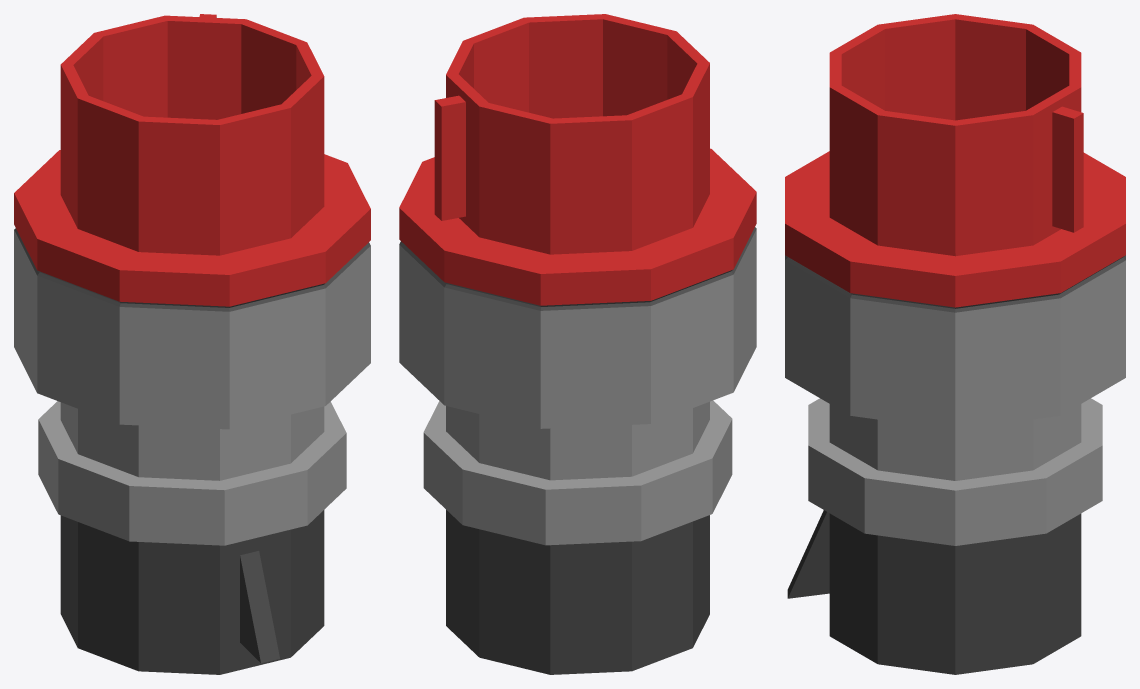
File: SM_plugRed.fbx
3 renders of one model, left to right at view 1: azimuth 30°, elevation 25°; view 2: azimuth 150°, elevation 25°; view 3: azimuth 270°, elevation 25°, orthographic.
Visible parts, largest first — view 1: SM_plugRed; view 2: SM_plugRed; view 3: SM_plugRed.
Part boxes in pixels (x1,y1,x2,y2): SM_plugRed: (14,14,370,674); SM_plugRed: (399,14,756,674); SM_plugRed: (785,14,1125,674).
Size of the model in its own units: 0.2083 by 0.3524 by 0.1981.
